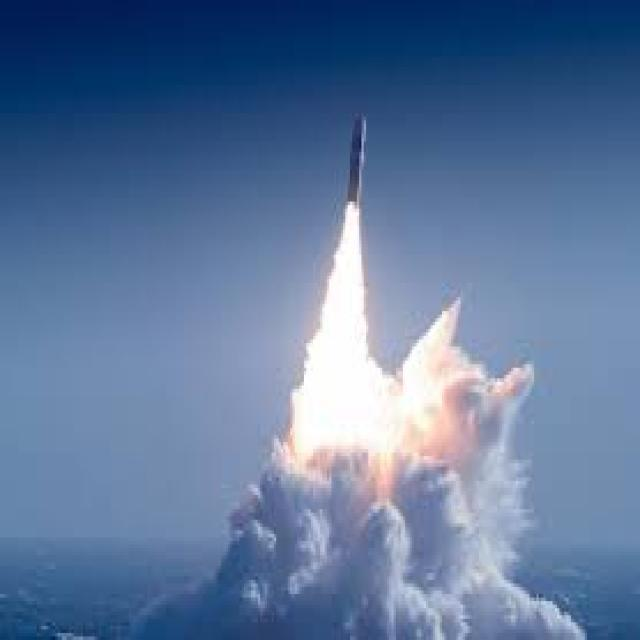missile: (344, 105, 371, 207)
